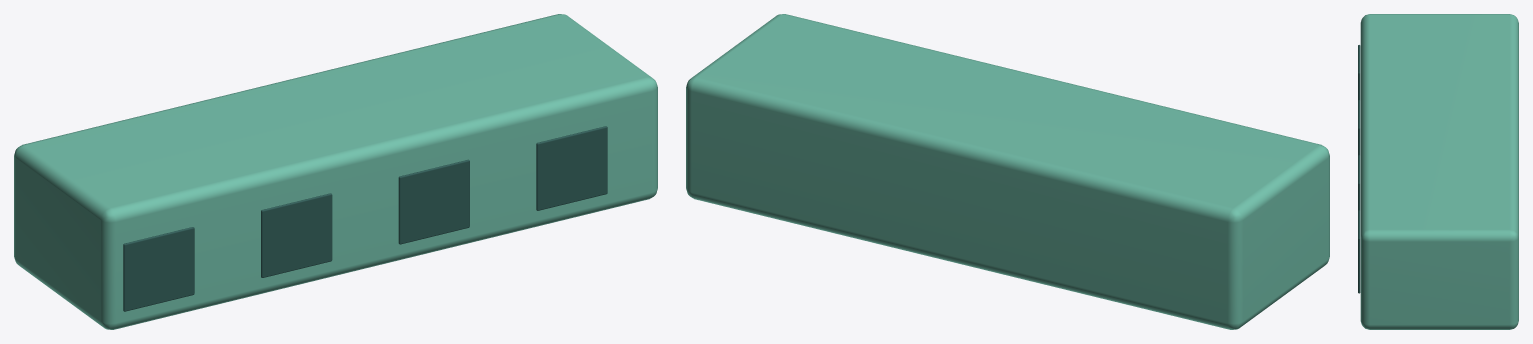
The model's file is grandstand_rostrum.glb.
3 views of the same model, side by side, from view 1: azimuth 30°, elevation 25°; view 2: azimuth 150°, elevation 25°; view 3: azimuth 270°, elevation 25° (orthographic). The views are drawn at different scales.
Visible parts, largest first — view 1: FIT_grandstand_structural_rostrum_NEW_V2, FIT_grandstand_arch_inset.003_NEW_V2, FIT_grandstand_arch_inset.002_NEW_V2, FIT_grandstand_arch_inset.001_NEW_V2, FIT_grandstand_arch_inset_NEW_V2; view 2: FIT_grandstand_structural_rostrum_NEW_V2; view 3: FIT_grandstand_structural_rostrum_NEW_V2, FIT_grandstand_arch_inset.003_NEW_V2, FIT_grandstand_arch_inset_NEW_V2, FIT_grandstand_arch_inset.001_NEW_V2, FIT_grandstand_arch_inset.002_NEW_V2.
Part boxes in pixels (x1,y1,x2,y2): FIT_grandstand_structural_rostrum_NEW_V2: (14,14,657,329); FIT_grandstand_arch_inset.003_NEW_V2: (536,126,607,210); FIT_grandstand_arch_inset.002_NEW_V2: (398,159,469,244); FIT_grandstand_arch_inset.001_NEW_V2: (261,193,332,277); FIT_grandstand_arch_inset_NEW_V2: (123,227,194,311); FIT_grandstand_structural_rostrum_NEW_V2: (686,14,1329,329); FIT_grandstand_structural_rostrum_NEW_V2: (1360,14,1518,329); FIT_grandstand_arch_inset.003_NEW_V2: (1358,210,1360,293); FIT_grandstand_arch_inset_NEW_V2: (1358,45,1360,100); FIT_grandstand_arch_inset.001_NEW_V2: (1358,100,1360,155); FIT_grandstand_arch_inset.002_NEW_V2: (1358,155,1360,210).
Bounding box in the file's own units: 5.65 × 1.18 × 1.73.
